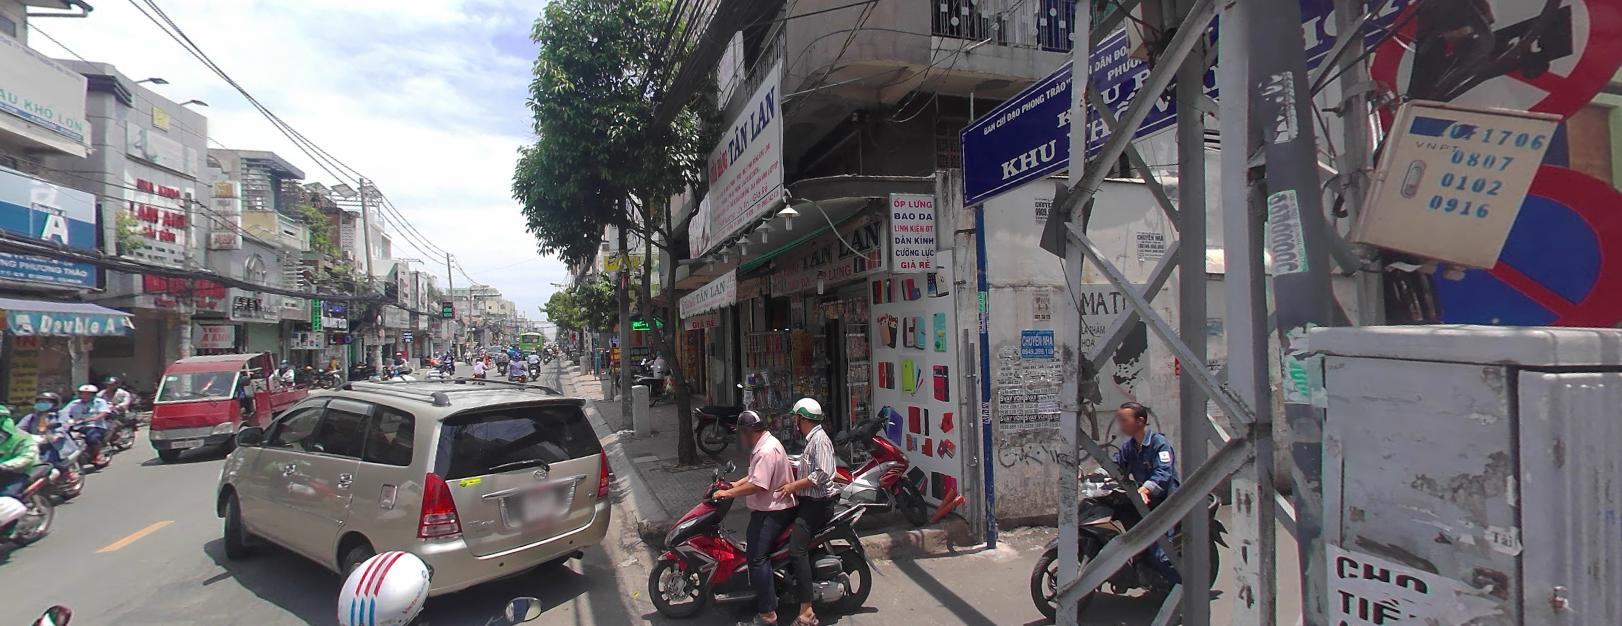Cam con lai: (1366, 2, 1618, 144)
Cam dung va do: (1409, 157, 1621, 349)
